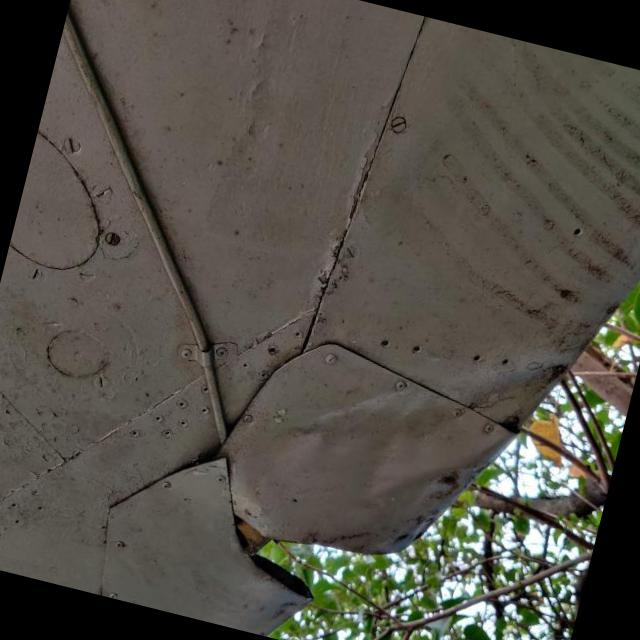Dent: (228, 346, 513, 554)
